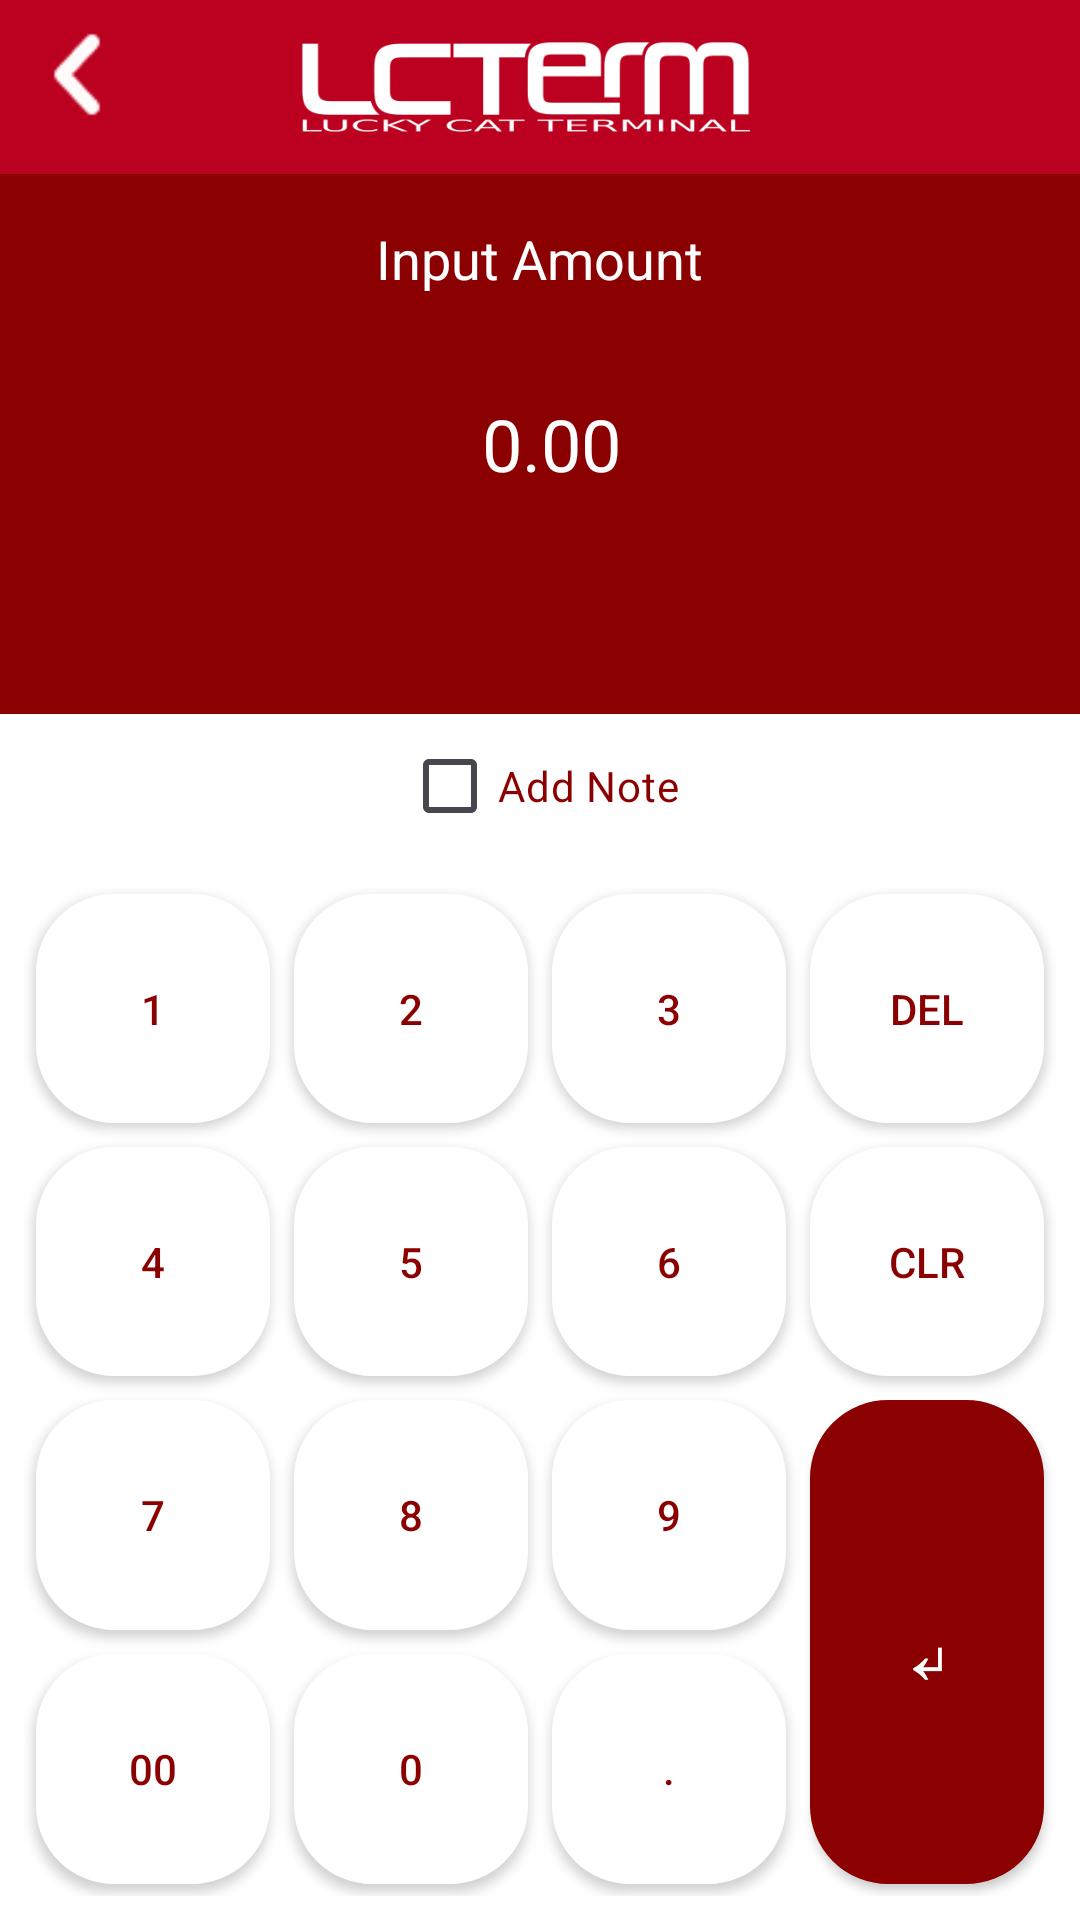

Screen size 1080px x 1920px. Icon name, then its box in pixels as (x1, y1, x2, y2):
Back: (54, 34, 100, 115)
